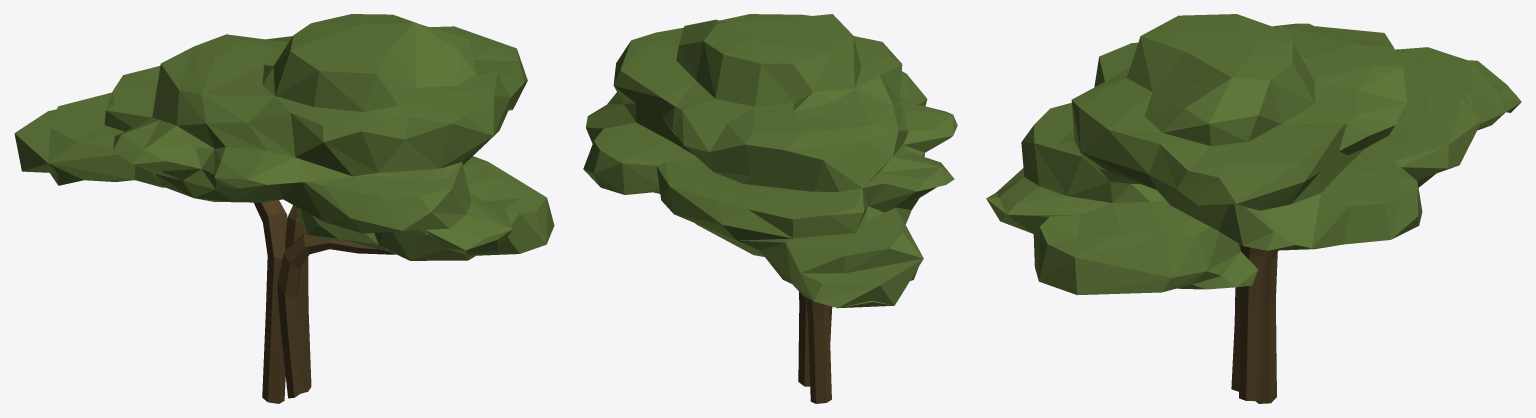
File: DarkWoodDecorationMediumTreeWithLeavesSingleCrown3.fbx
3 views of the same model, side by side, from view 1: azimuth 30°, elevation 25°; view 2: azimuth 150°, elevation 25°; view 3: azimuth 270°, elevation 25° (orthographic). The views are drawn at different scales.
Visible parts, largest first — view 1: Canopy, Trunk; view 2: Canopy, Trunk; view 3: Canopy, Trunk.
Boxes of the visible parts, x1=… form: Canopy: x1=14, y1=14, x2=554, y2=260; Trunk: x1=254, y1=200, x2=395, y2=403; Canopy: x1=583, y1=14, x2=957, y2=308; Trunk: x1=798, y1=292, x2=832, y2=403; Canopy: x1=986, y1=14, x2=1521, y2=295; Trunk: x1=1231, y1=244, x2=1277, y2=403.
Size of the model in its own units: 1899 by 1623 by 2023.
